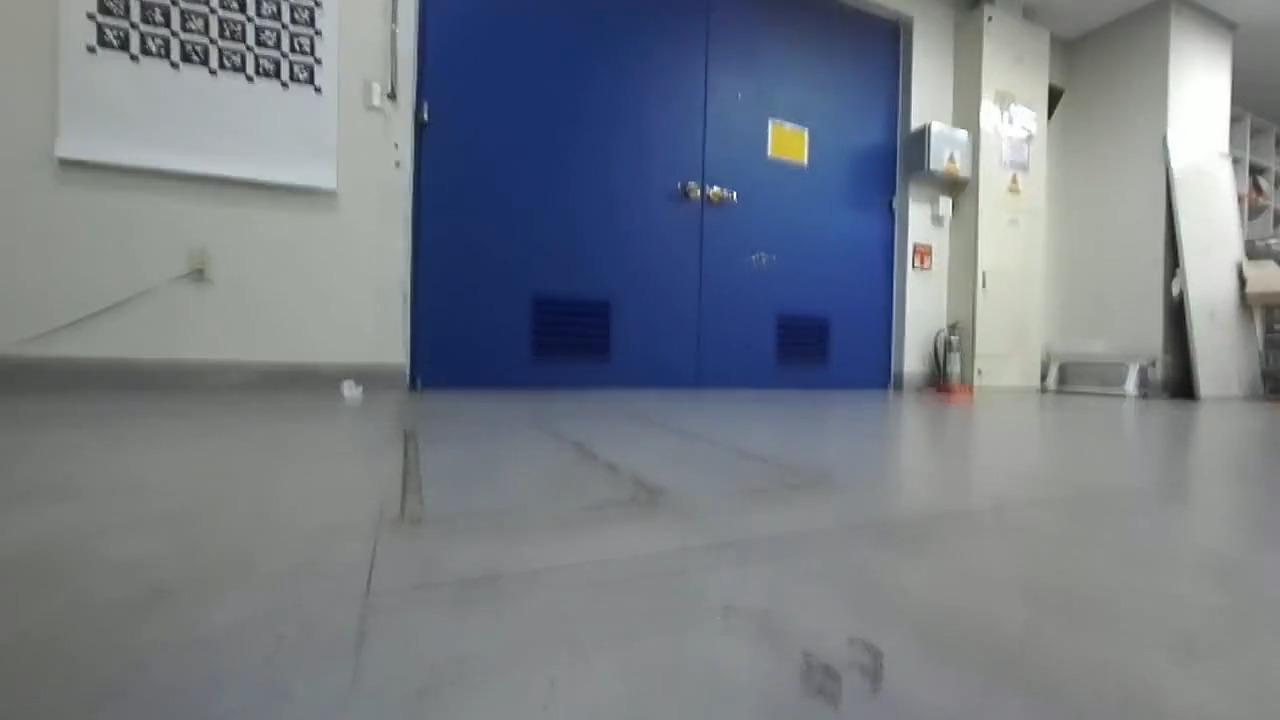crazyflie: (737, 246, 784, 271)
